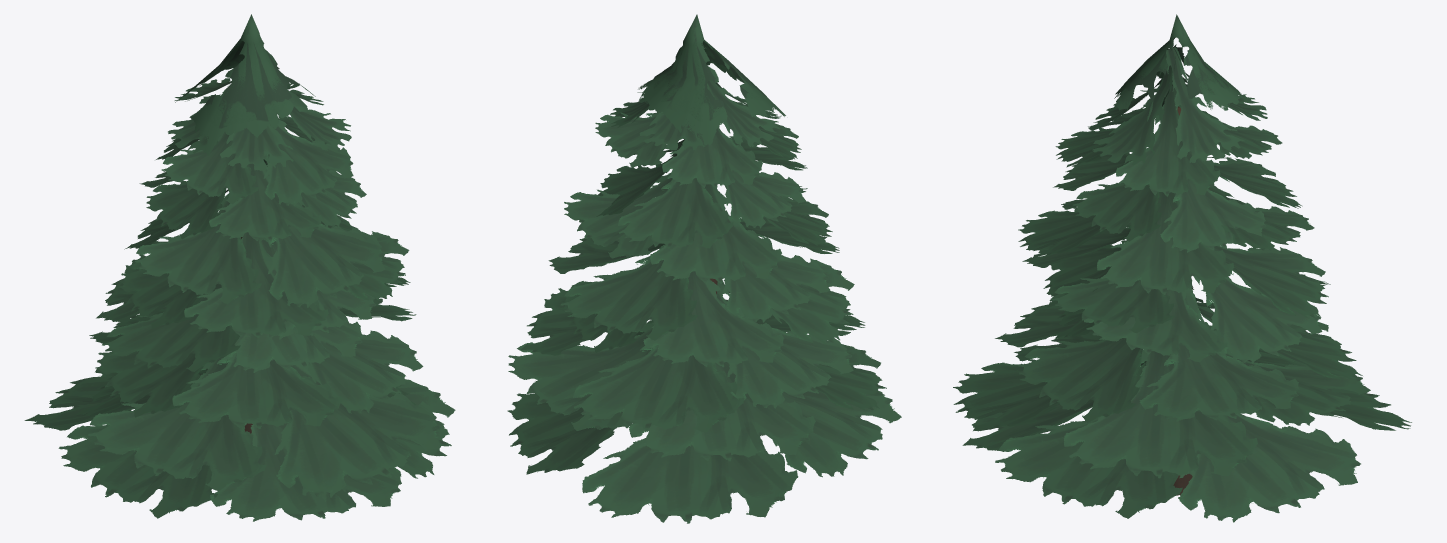
The model's file is env_tree_spruce_05.fbx.
The picture shows the model from 3 angles, left to right: view 1: azimuth 30°, elevation 25°; view 2: azimuth 150°, elevation 25°; view 3: azimuth 270°, elevation 25°; orthographic projection. The views are drawn at different scales.
Visible parts, largest first — view 1: env_tree_spruce_0522453; view 2: env_tree_spruce_0522453; view 3: env_tree_spruce_0522453.
Boxes of the visible parts, x1,y1,x2,y2 form: env_tree_spruce_0522453: (24, 14, 455, 521); env_tree_spruce_0522453: (507, 14, 901, 523); env_tree_spruce_0522453: (953, 14, 1411, 522).
Size of the model in its own units: 305 by 372 by 352.
1 material, 1 textured.
